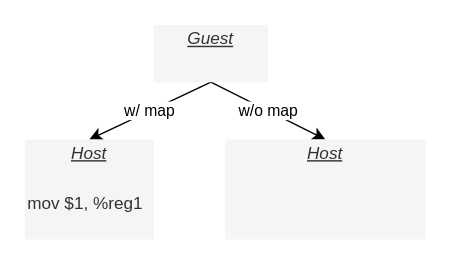
Some shapes in this 449 by 279 pixel diagram are drawn without their labels. Each missing label, with the centre of its shape:
load %tmp1, (&struct_rax) mov $1, %tmp1 store %tmp1, (&struct_rax): [325,203]
mov $1, %rax: [210,67]
